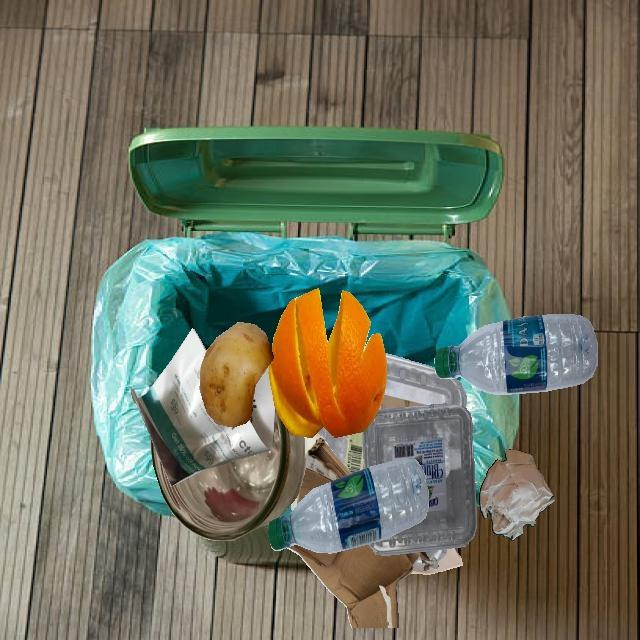biowaste: (268, 288, 387, 438), (199, 322, 274, 427)
cardboard: (287, 544, 439, 628), (291, 433, 352, 511)
glass: (151, 409, 305, 541)
paper: (131, 328, 275, 486), (479, 449, 555, 541), (411, 548, 462, 575)
plastic: (362, 404, 476, 556), (268, 458, 428, 553), (434, 314, 598, 395), (364, 348, 414, 519), (385, 353, 466, 408)
